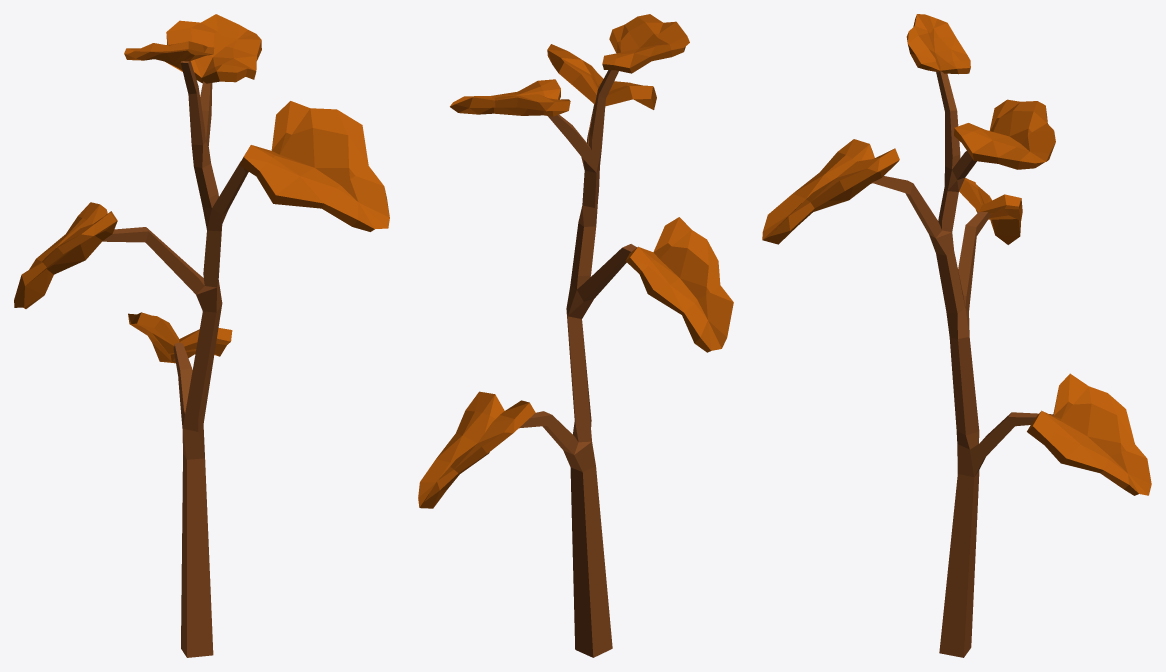
The model's file is Eggplant_S_Died.fbx.
3 renders of one model, left to right at view 1: azimuth 30°, elevation 25°; view 2: azimuth 150°, elevation 25°; view 3: azimuth 270°, elevation 25°, orthographic. The views are drawn at different scales.
Visible parts, largest first — view 1: Eggplant_S_Died; view 2: Eggplant_S_Died; view 3: Eggplant_S_Died.
Boxes of the visible parts, x1,y1,x2,y2 form: Eggplant_S_Died: (14,14,389,657); Eggplant_S_Died: (418,14,733,657); Eggplant_S_Died: (762,14,1151,657).
Bounding box in the file's own units: 16.15 × 37.36 × 21.7.
